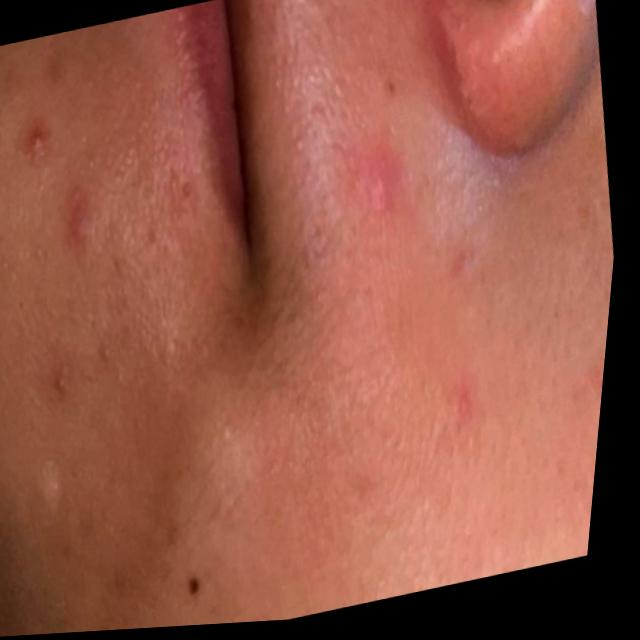papule: (46, 168, 108, 285), (442, 360, 498, 466), (353, 146, 409, 240)
pustule: (0, 83, 68, 177)
